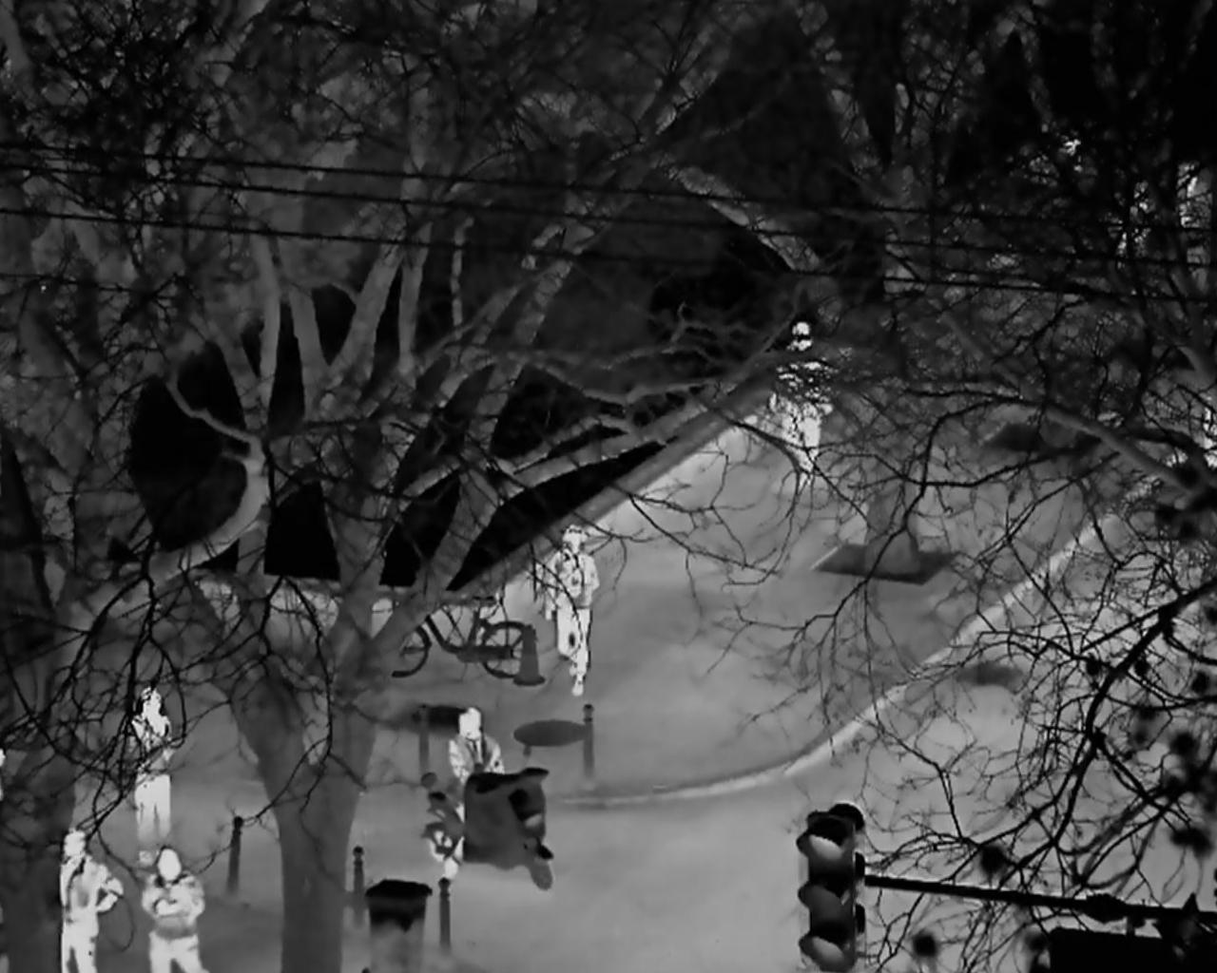person: (544, 523, 601, 697), (60, 829, 124, 973), (139, 846, 206, 973), (128, 688, 178, 846), (445, 706, 507, 797)
